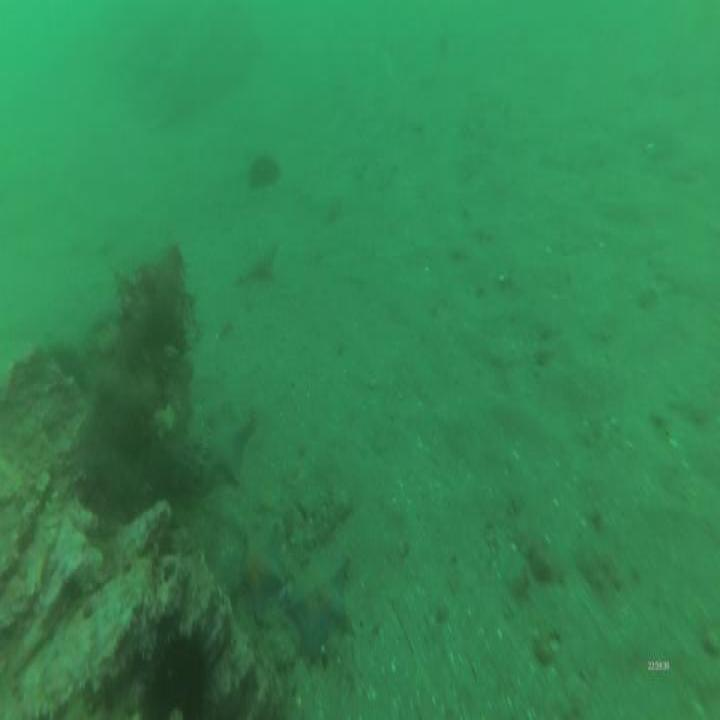echinus: (142, 633, 206, 720), (249, 160, 278, 185)
starfish: (289, 550, 351, 652), (239, 522, 286, 620), (200, 412, 249, 480)
